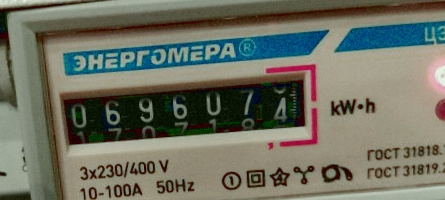0: (67, 100, 90, 130), (203, 87, 223, 117), (103, 98, 122, 125)
4: (270, 95, 289, 124)
6: (168, 89, 189, 121)
7: (236, 85, 256, 115)
9: (136, 94, 156, 123)
screen: (44, 59, 324, 164)
